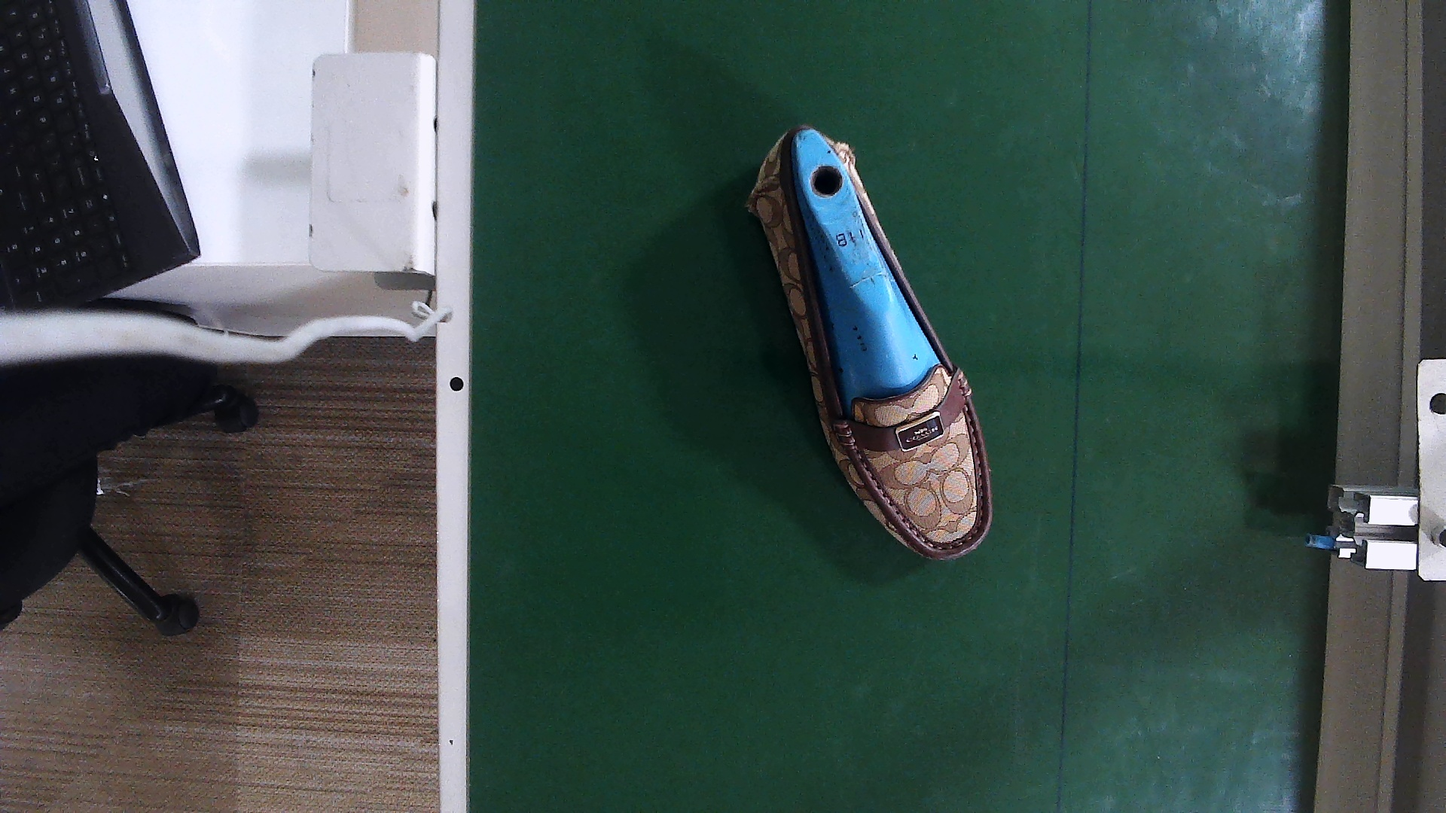shoe: (753, 128, 989, 559)
